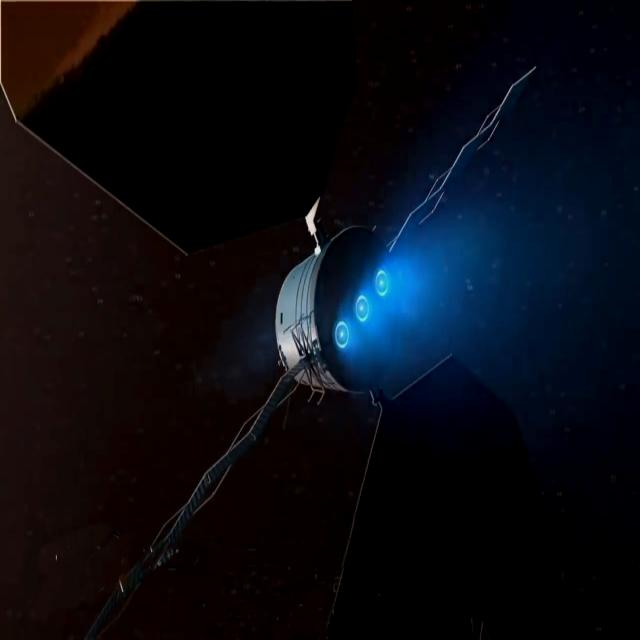satellite: (0, 0, 581, 640)
